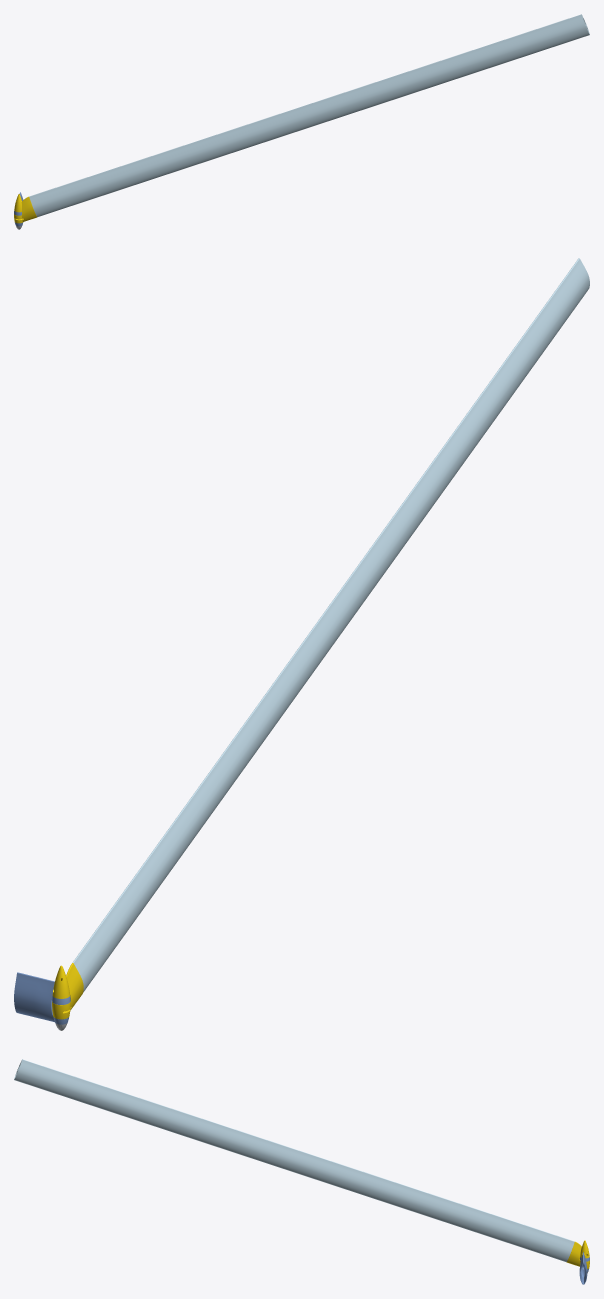
Rendered from basbarjunction.gltf.
3 renders of one model, top to bottom at view 1: azimuth 90°, elevation 25°; view 2: azimuth 150°, elevation 25°; view 3: azimuth 270°, elevation 25°, orthographic. The views are drawn at different scales.
Visible parts, largest first — view 1: mesh314_meshnode_314; view 2: mesh314_meshnode_314; view 3: mesh313_meshnode_313.
Part boxes in pixels (x1,y1,x2,y2): mesh314_meshnode_314: (29,14,589,216); mesh314_meshnode_314: (73,258,589,992); mesh313_meshnode_313: (14,1059,574,1262).
Size of the model in its own units: 0.0945 by 0.6681 by 1.62.
